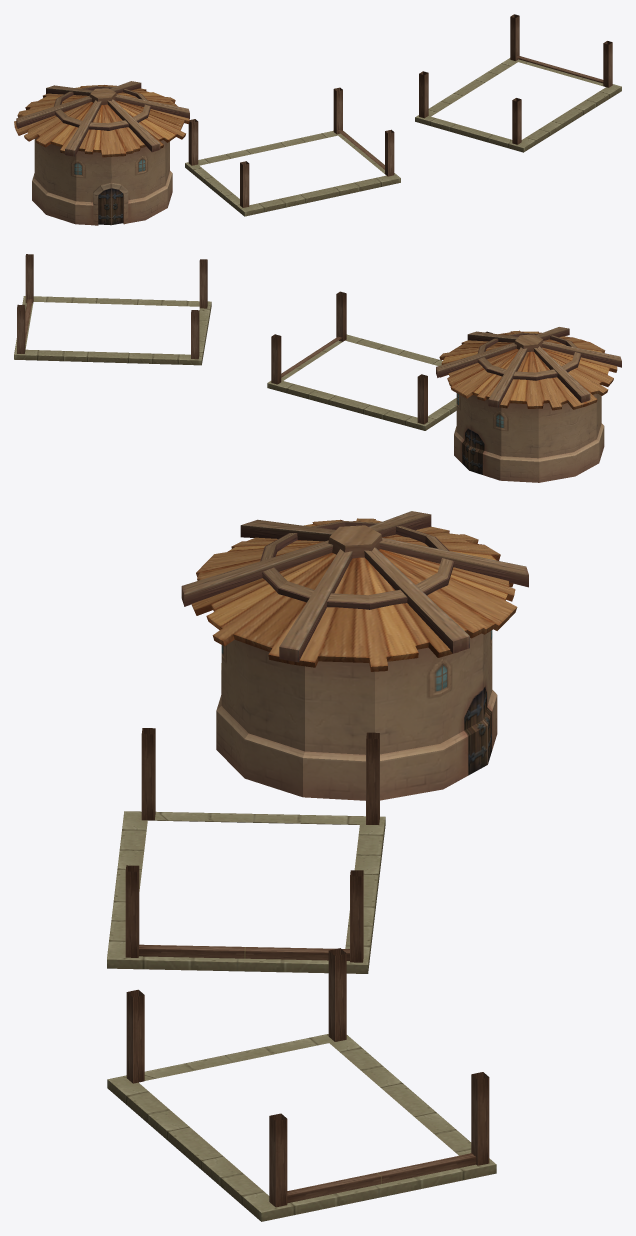
The model's file is Area_12_6.fbx.
The picture shows the model from 3 angles, top to bottom: view 1: azimuth 30°, elevation 25°; view 2: azimuth 150°, elevation 25°; view 3: azimuth 270°, elevation 25°; orthographic projection. The views are drawn at different scales.
Parts seen in each view (by area): view 1: Area_12_6; view 2: Area_12_6; view 3: Area_12_6.
Part boxes in pixels (bbox=[...]): Area_12_6: bbox=[14, 14, 621, 225]; Area_12_6: bbox=[14, 254, 621, 482]; Area_12_6: bbox=[107, 511, 528, 1221].
Size of the model in its own units: 5374 by 932 by 1724.
